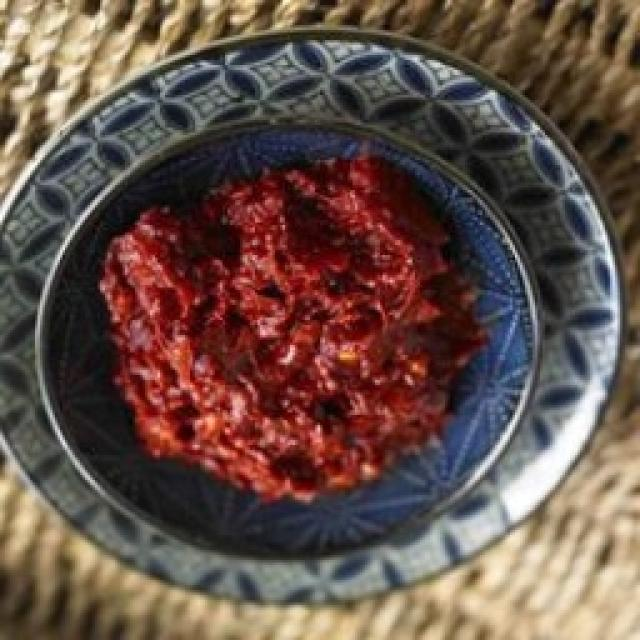Harissa: (85, 120, 498, 512)
